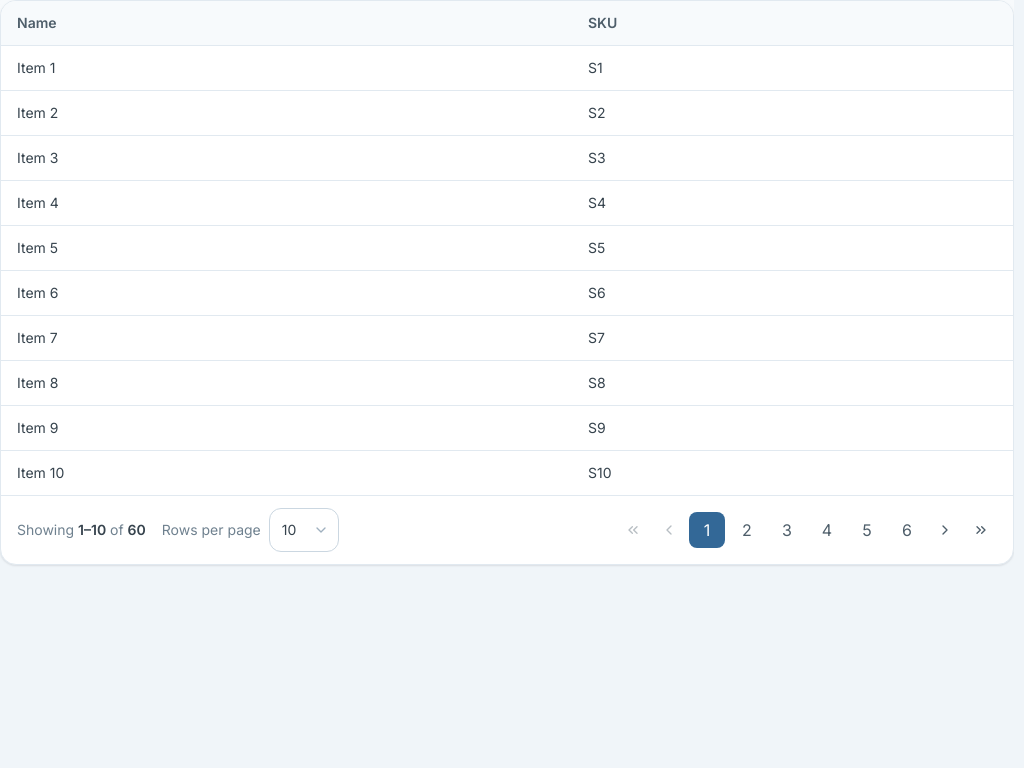
DataTable — client mode › returns to page 1 when the page size changes
The width and height of the screenshot is (1024, 768).
Step 1. Click the button named "Next page" → click(945, 530), box [929,514,961,546]
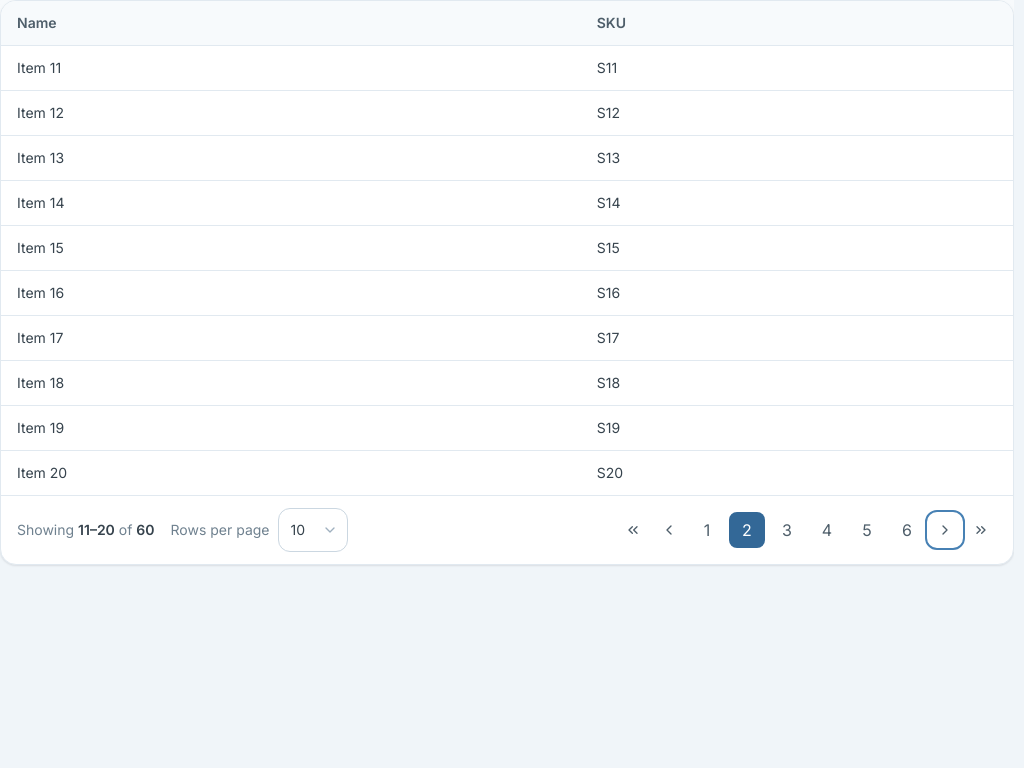
Result: the text "Item 11" is shown at [1,46,581,90]
Step 2. Select "25" in the dropdown → (312, 530), box [278,508,348,552]
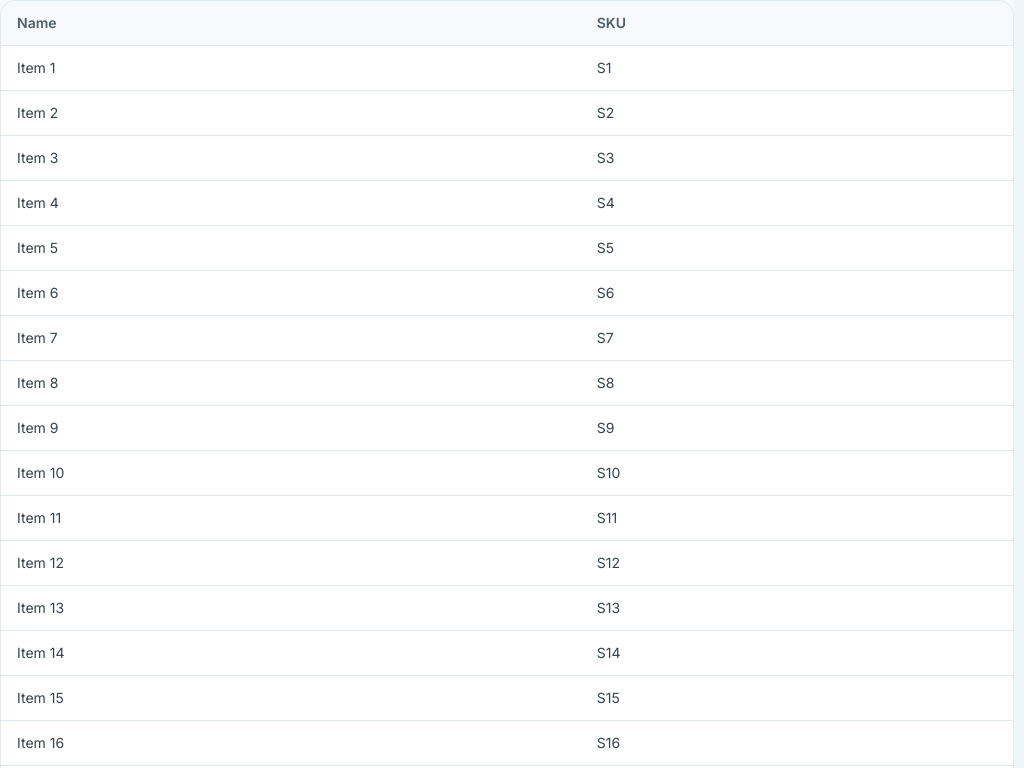
Result: the text "Item 1" is shown at [1,46,581,90]
